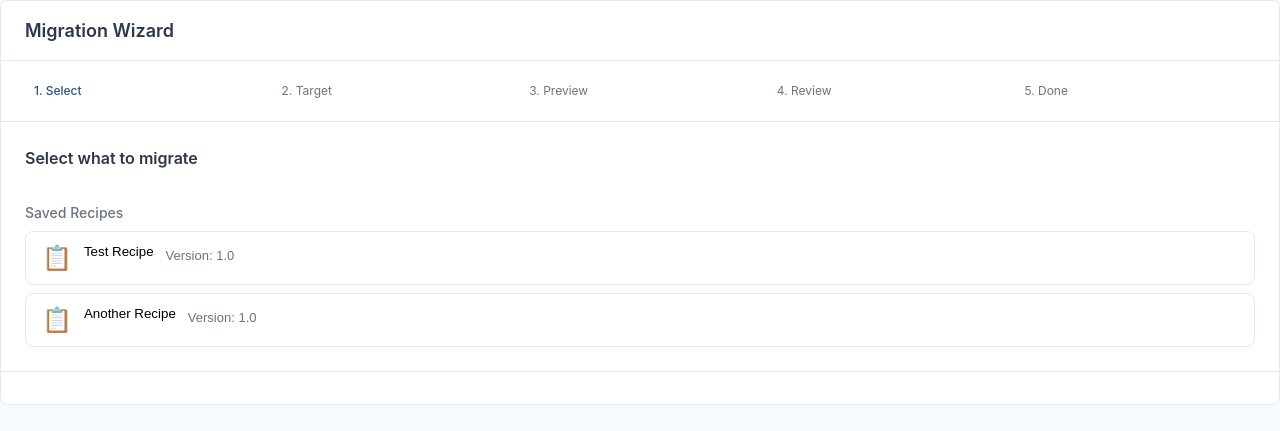
it: MigrationWizard › Step 1: Artifact Selection › should navigate to target selection when recipe is clicked
What coordinates should you click on to do the following:
click the text "Test Recipe"
I would click on:
 (119, 252)
Its box is [84,244,154,259].
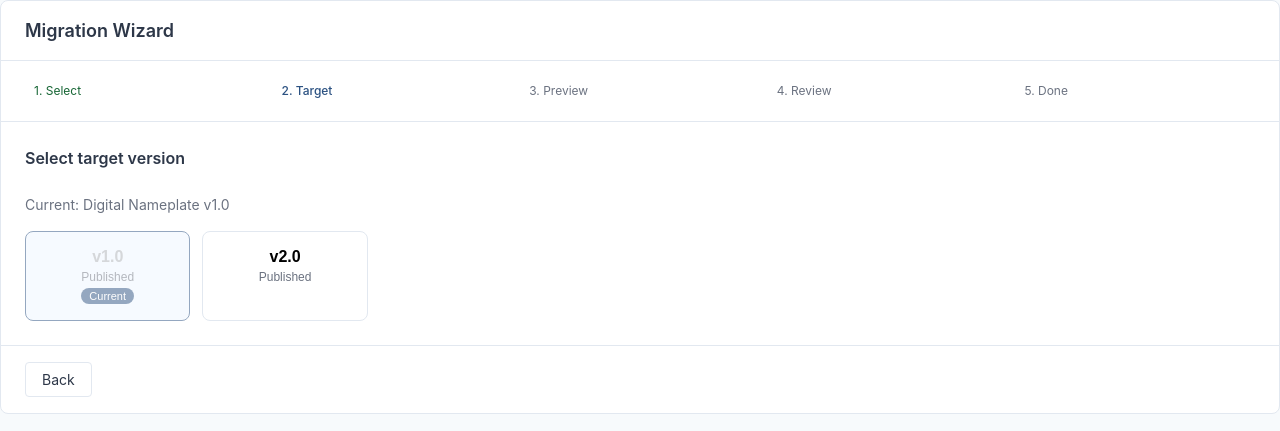
Now the heading "Select target version" is shown, box [25,148,185,168]
